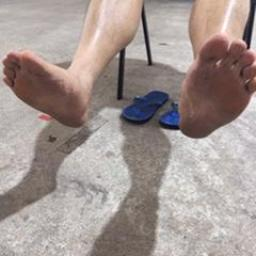Plantar View -Both Feet-: (2, 29, 255, 158)
